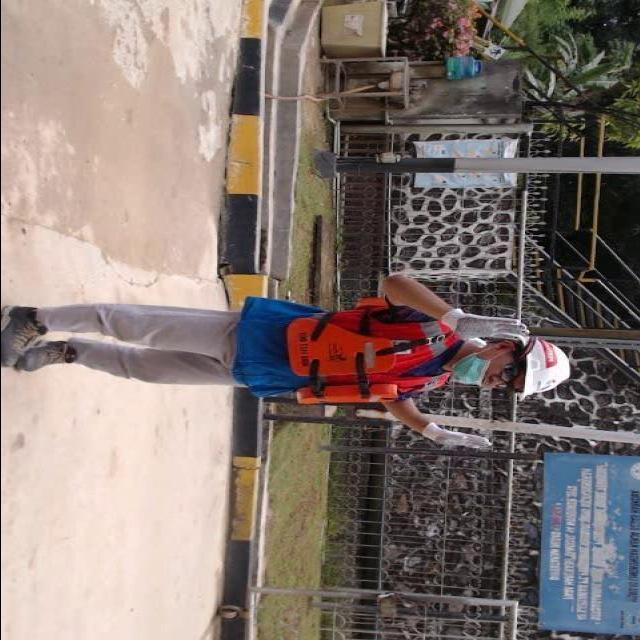helmet: (512, 332, 578, 410)
jacket: (274, 294, 456, 414)
